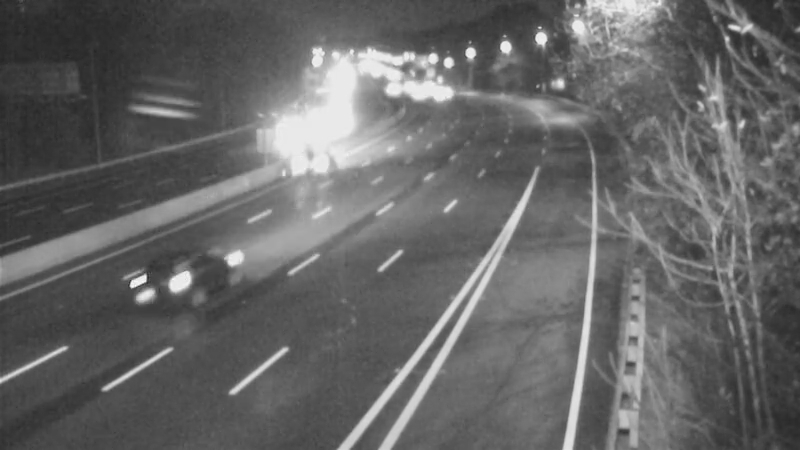vehicle: (272, 123, 352, 203), (123, 239, 203, 319), (276, 108, 326, 158)
